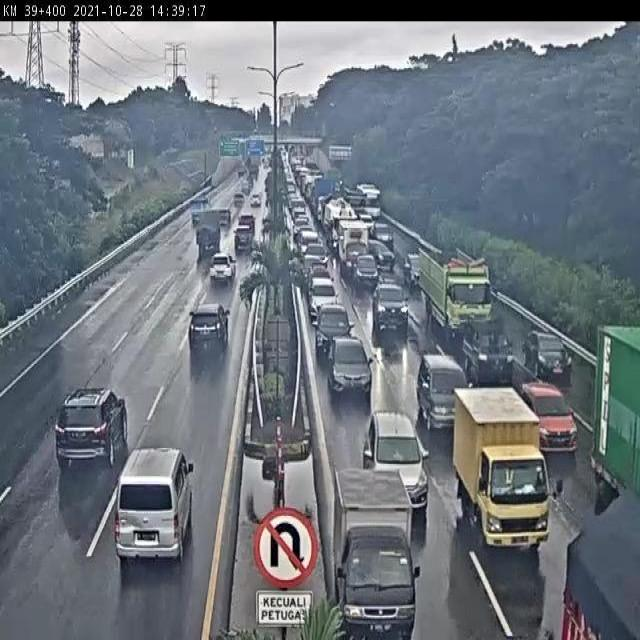big truck: (575, 311, 640, 508), (406, 233, 493, 336)
car: (108, 430, 202, 578), (47, 368, 142, 485), (361, 404, 435, 528), (518, 372, 580, 452), (409, 337, 465, 424), (180, 289, 240, 368), (514, 325, 578, 384), (319, 330, 373, 398), (307, 297, 355, 359), (367, 272, 415, 328), (204, 247, 242, 289), (399, 245, 424, 292), (228, 228, 259, 261), (236, 211, 262, 237)
mid truck: (527, 470, 640, 640), (443, 381, 549, 543), (190, 200, 225, 260)
small truck: (318, 456, 428, 640), (460, 320, 518, 388)
